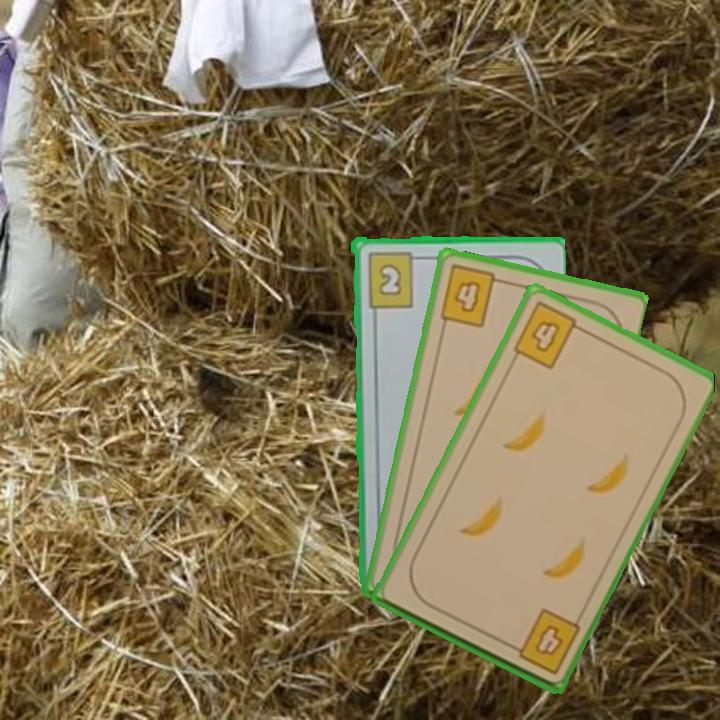2b: (363, 248, 425, 310)
4b: (509, 297, 588, 372), (504, 605, 583, 677), (436, 261, 507, 330)
